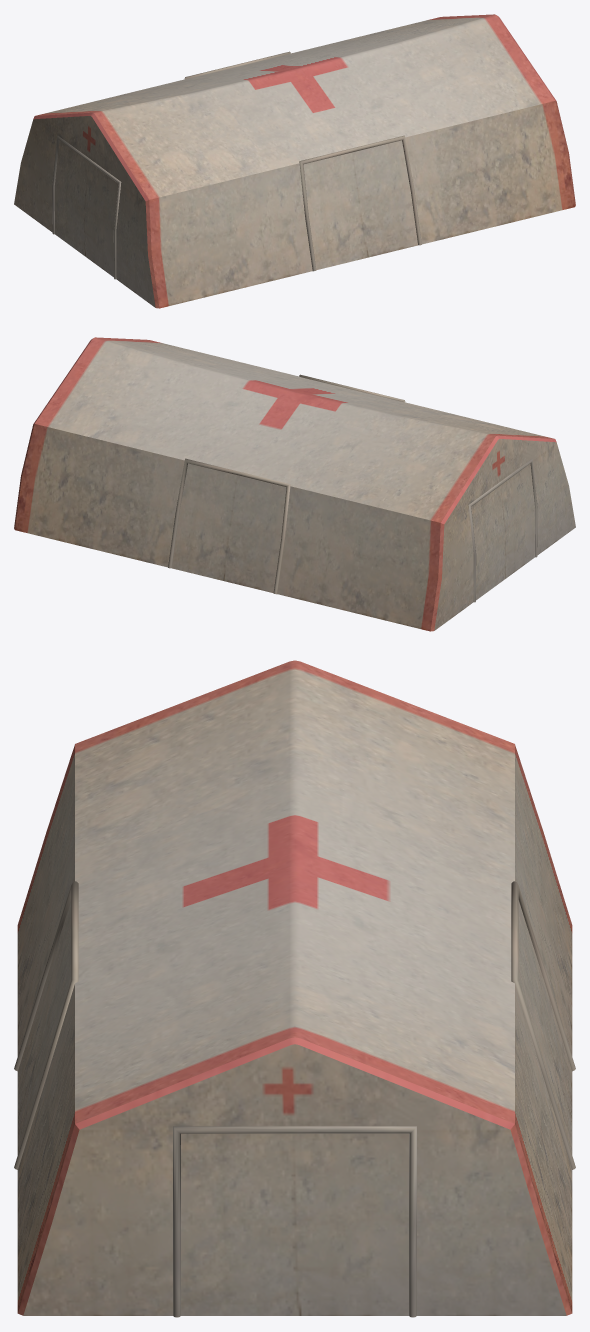
File: camp_large.FBX
The picture shows the model from 3 angles, top to bottom: view 1: azimuth 30°, elevation 25°; view 2: azimuth 150°, elevation 25°; view 3: azimuth 270°, elevation 25°; orthographic projection. The views are drawn at different scales.
Visible parts, largest first — view 1: Camp_large; view 2: Camp_large; view 3: Camp_large.
Boxes of the visible parts, x1,y1,x2,y2 form: Camp_large: (14, 14, 575, 308); Camp_large: (14, 337, 575, 631); Camp_large: (14, 660, 575, 1317).
Size of the model in its own units: 1185 by 378 by 709.
1 material, 1 textured.
